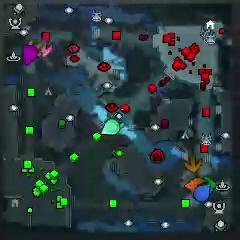p1: (193, 182, 211, 203)
p2: (102, 118, 120, 136)
p3: (23, 44, 38, 65)
p5: (185, 177, 205, 193)
x1: (39, 41, 54, 58)
x2: (28, 40, 43, 58)
x4: (202, 175, 216, 190)
x5: (183, 152, 203, 173)
